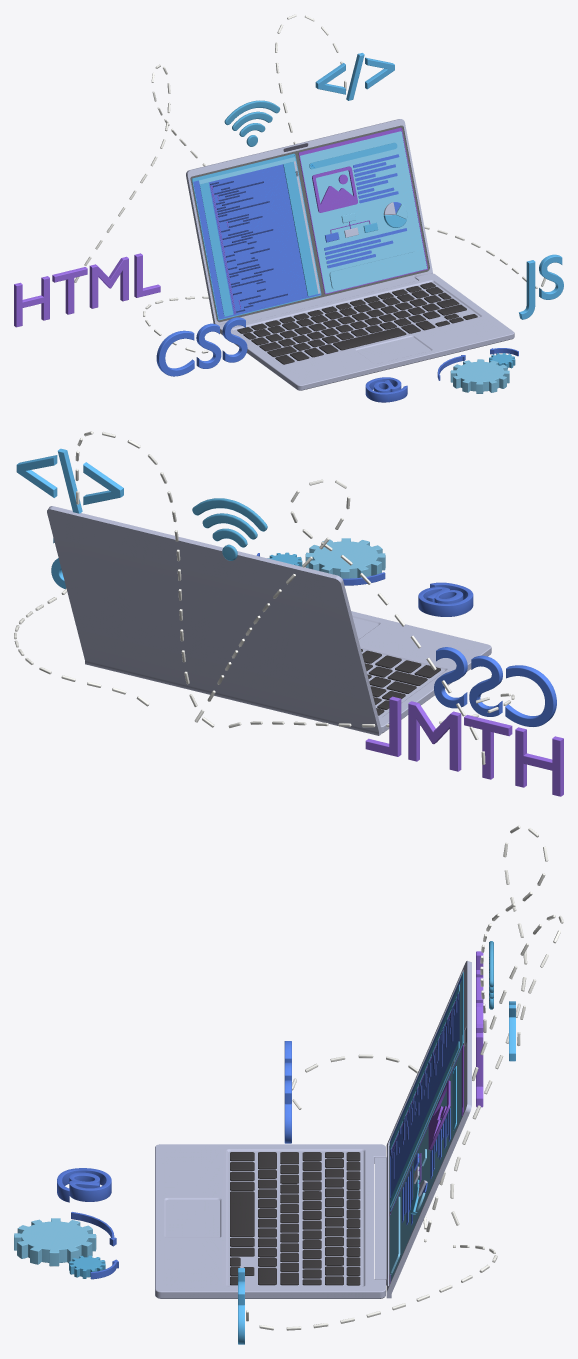
Rendered from webDev-transformed.glb.
The picture shows the model from 3 angles, top to bottom: view 1: azimuth 30°, elevation 25°; view 2: azimuth 150°, elevation 25°; view 3: azimuth 270°, elevation 25°; orthographic projection. The views are drawn at different scales.
Visible parts, largest first — view 1: JS_text.001_0; view 2: JS_text.001_0; view 3: JS_text.001_0.
Part boxes in pixels (box(x1,y1,x2,y2)): JS_text.001_0: box(14, 14, 563, 402); JS_text.001_0: box(14, 431, 563, 796); JS_text.001_0: box(14, 825, 563, 1344).
Size of the model in its own units: 10.39 by 5.32 by 7.69.
Materials: 1 (1 with a texture image).
